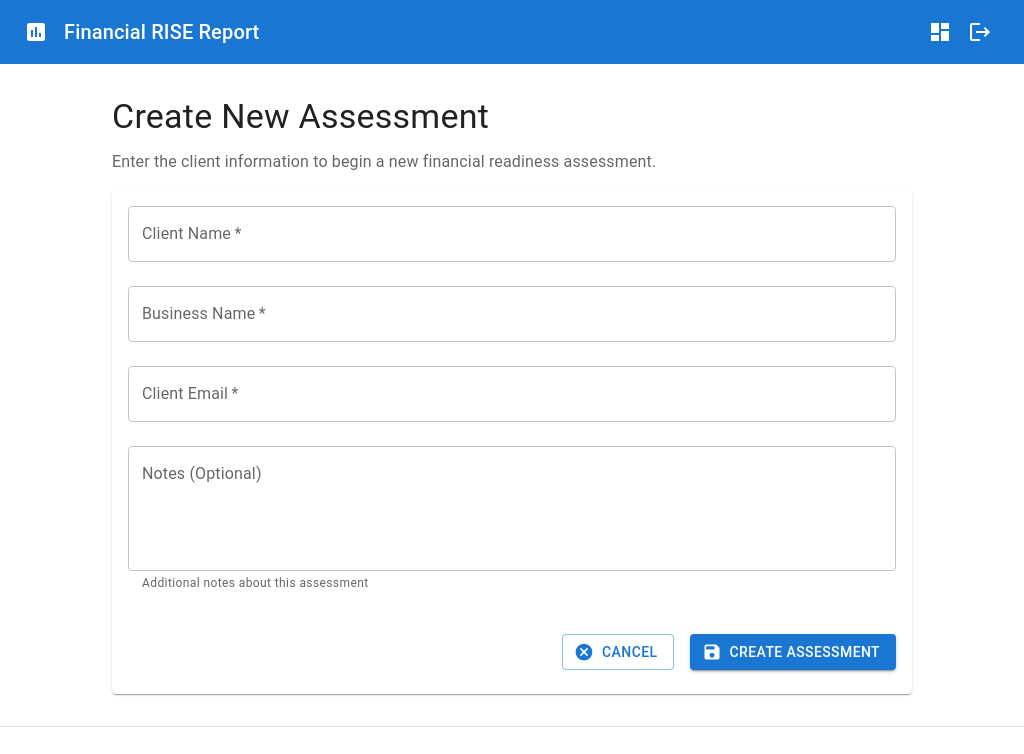
Scenario: CreateAssessment › should show validation error for empty business name
The width and height of the screenshot is (1024, 754).
Click the field labelled "Business Name *" at (512, 314), box x1=128 y1=286 x2=896 y2=342
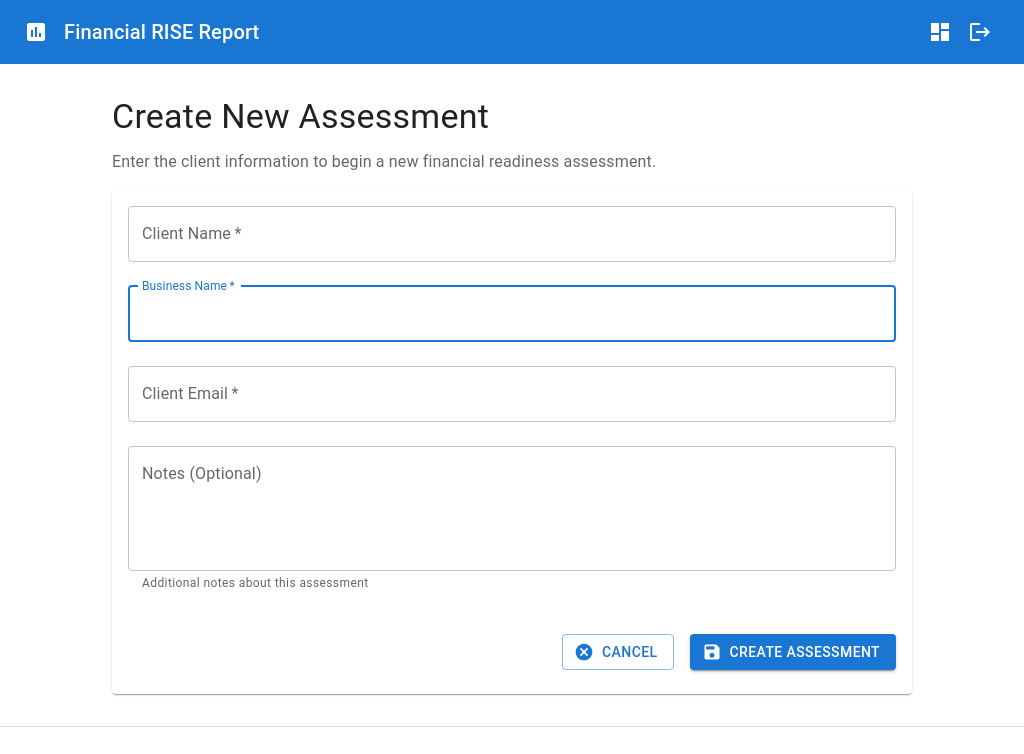
Press Tab
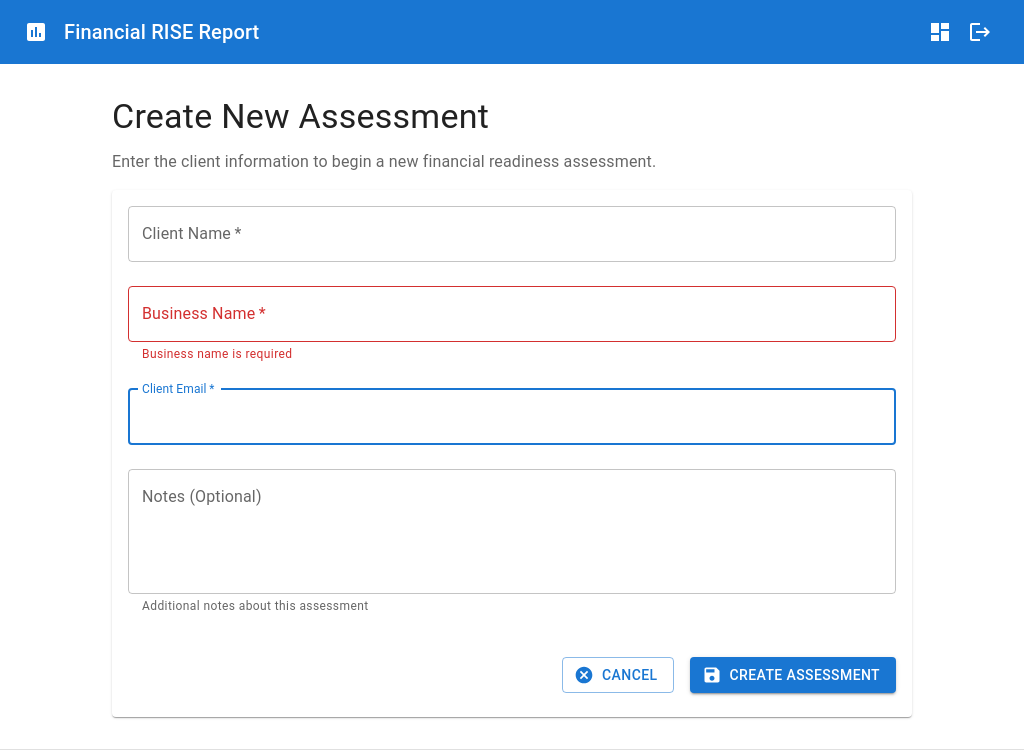
Result: the text "Business name is required" is shown at x1=142 y1=347 x2=292 y2=361
